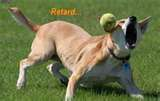tennis ball: (99, 12, 117, 31)
